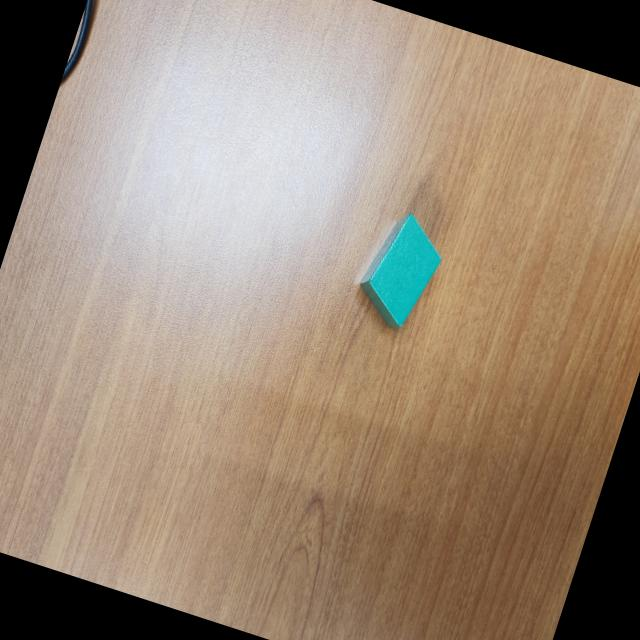green: (350, 205, 453, 338)
